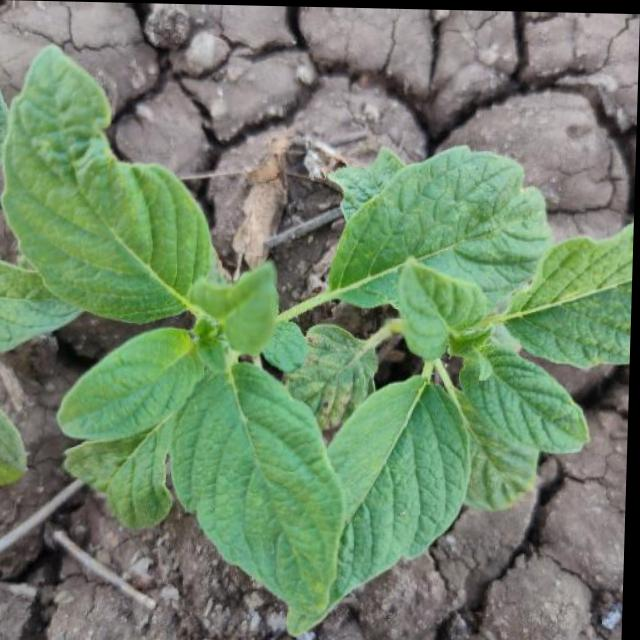crop: (0, 53, 639, 633)
